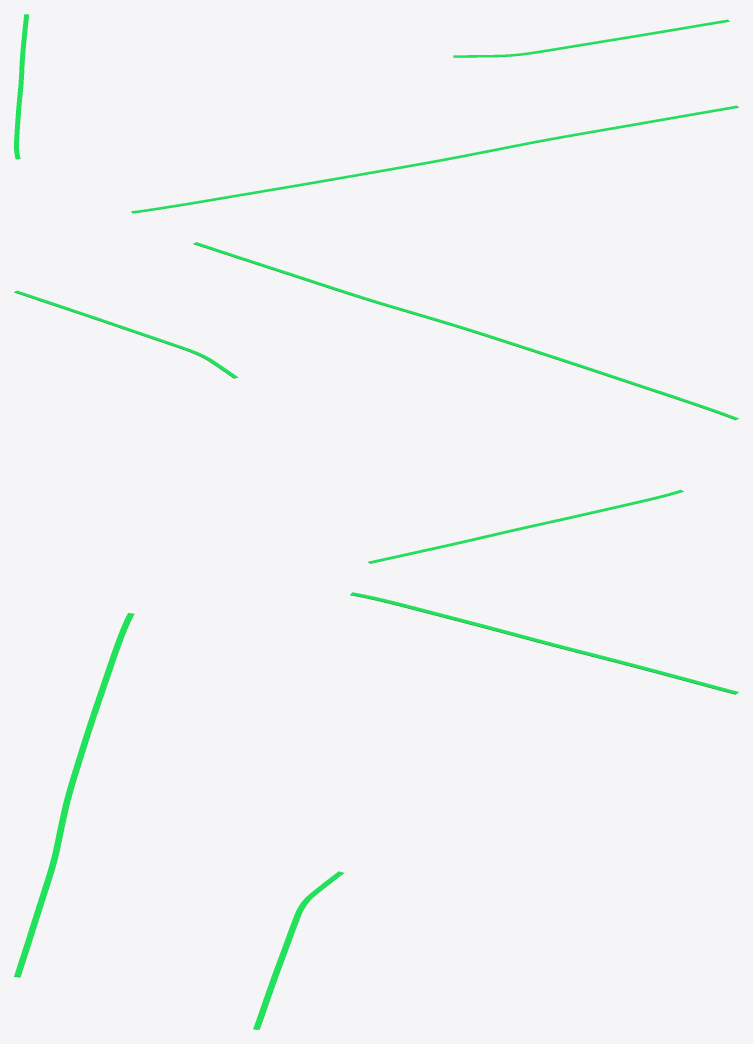
The model's file is MexicoCityDrs.glb.
3 views of the same model, one above another, from view 1: azimuth 30°, elevation 25°; view 2: azimuth 150°, elevation 25°; view 3: azimuth 270°, elevation 25° (orthographic). The views are drawn at different scales.
Visible parts, largest first — view 1: DrsStrip_2, DrsStrip_1, DrsStrip_3; view 2: DrsStrip_2, DrsStrip_3, DrsStrip_1; view 3: DrsStrip_2, DrsStrip_3, DrsStrip_1.
Part boxes in pixels (x1,y1,x2,y2): DrsStrip_2: [131, 105, 738, 213]; DrsStrip_1: [453, 19, 729, 57]; DrsStrip_3: [14, 14, 28, 159]; DrsStrip_2: [193, 242, 738, 420]; DrsStrip_3: [368, 489, 683, 563]; DrsStrip_1: [14, 290, 238, 378]; DrsStrip_2: [14, 613, 134, 977]; DrsStrip_3: [350, 592, 738, 694]; DrsStrip_1: [253, 871, 343, 1029].
Size of the model in its own units: 13.14 by 0.006 by 9.21.
